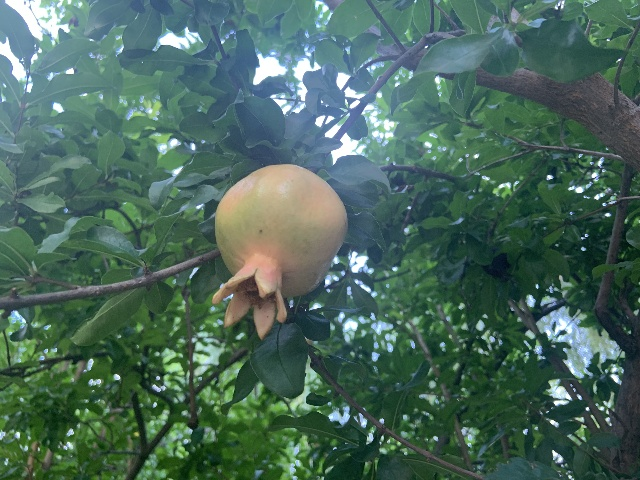mid-growth: (211, 163, 346, 340)
